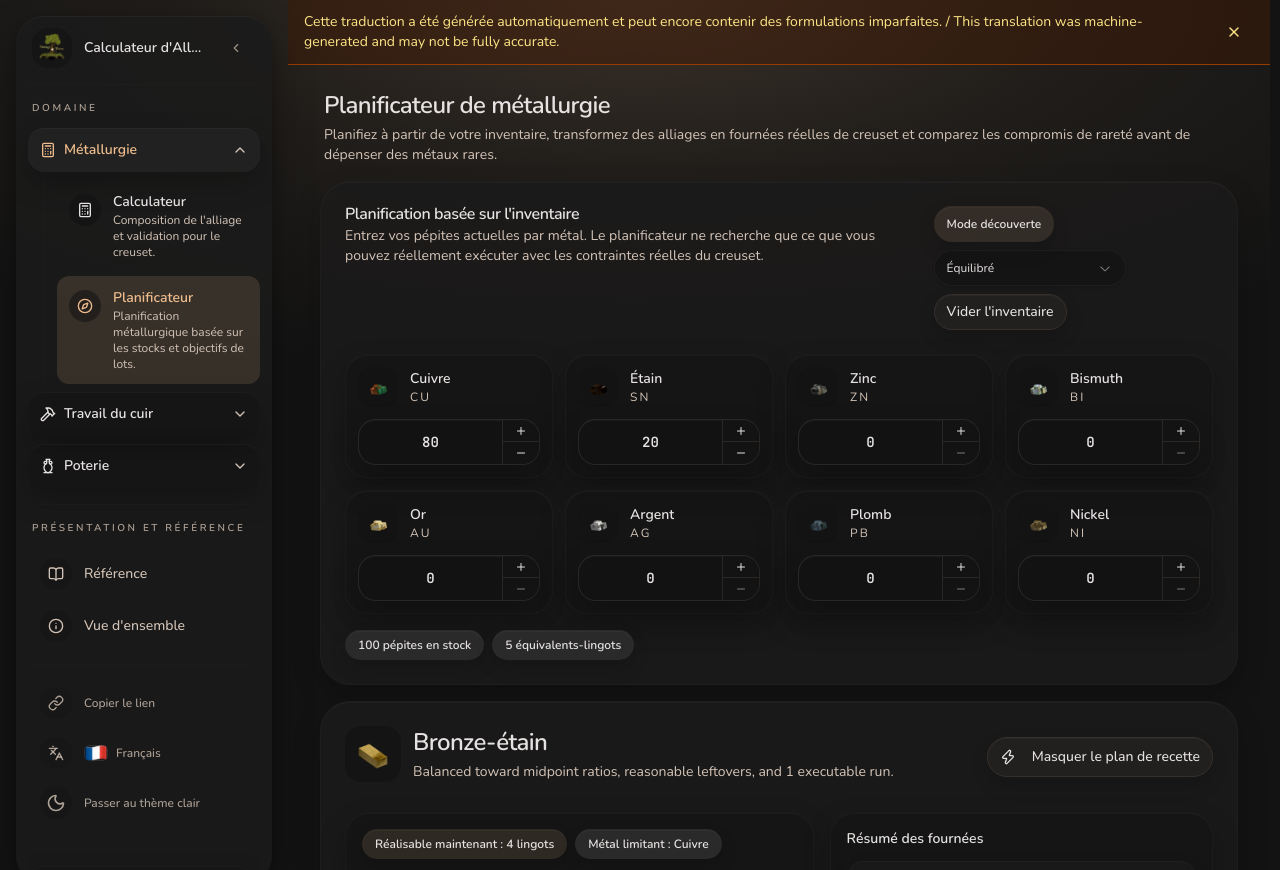
Test: App integration › loads planner deep links and preserves locale-prefixed navigation
Expected: the heading "Planificateur de métallurgie" is shown, [324,89,610,121]
Click the button "Référence".
click(140, 574)  # box [28,552,252,596]
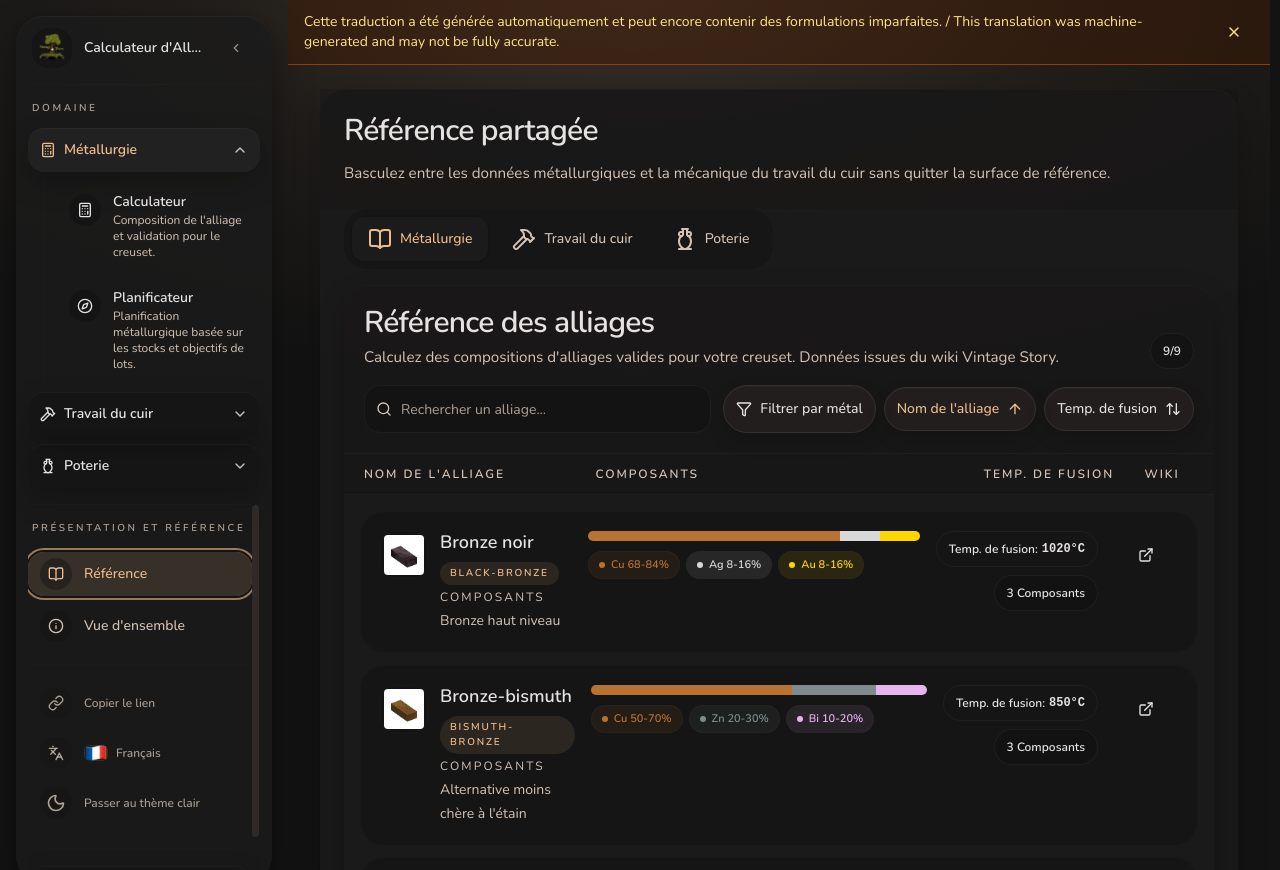
Expected: the field is shown, [364,385,711,433]
